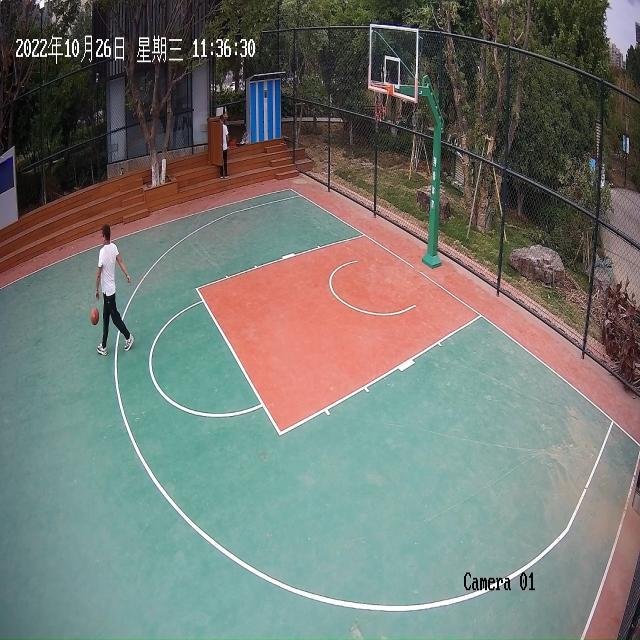rim: (92, 306, 102, 326)
